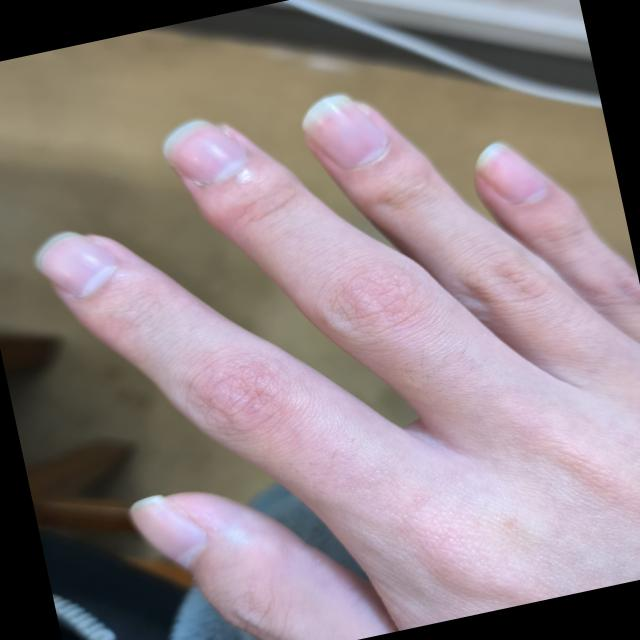Nail: (302, 96, 386, 170), (129, 494, 208, 568), (36, 232, 114, 297), (164, 120, 243, 184), (475, 143, 547, 204)
